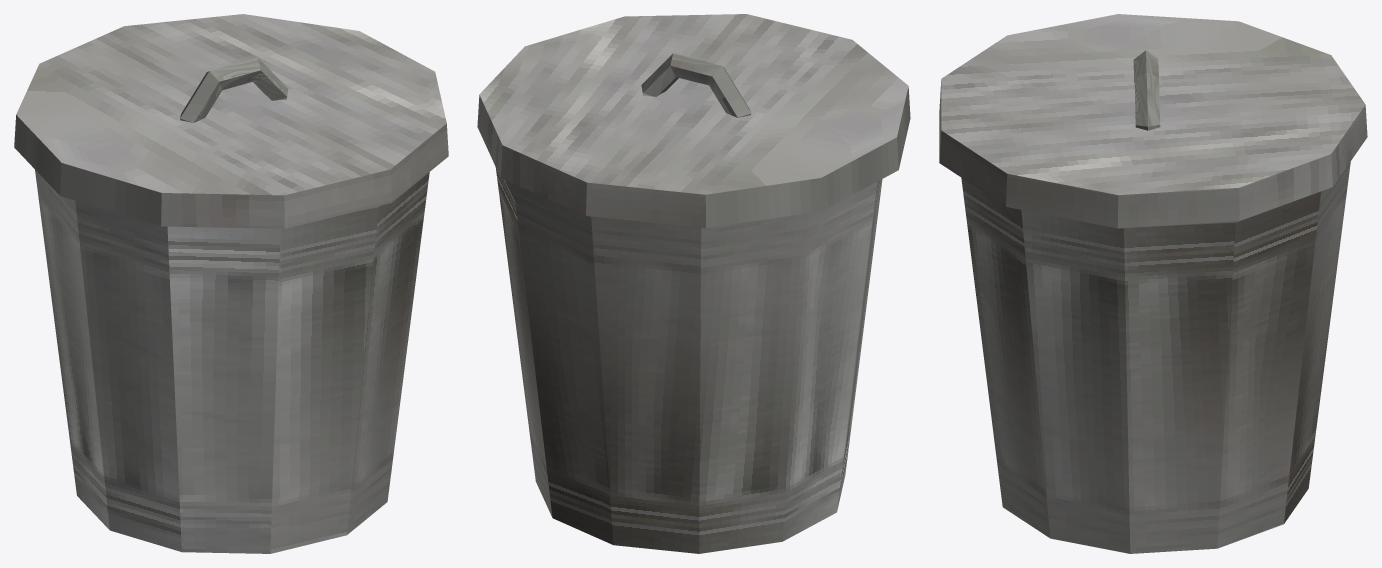
The model's file is lata_de_lixo_de_ps1.glb.
3 views of the same model, side by side, from view 1: azimuth 30°, elevation 25°; view 2: azimuth 150°, elevation 25°; view 3: azimuth 270°, elevation 25° (orthographic).
Parts seen in each view (by area): view 1: Object_2; view 2: Object_2; view 3: Object_2.
Part boxes in pixels (bbox=[...]): Object_2: bbox=[14, 14, 448, 553]; Object_2: bbox=[477, 14, 910, 553]; Object_2: bbox=[939, 14, 1367, 553].
Size of the model in its own units: 1.19 by 1.3 by 1.18.
Materials: 1 (1 with a texture image).
